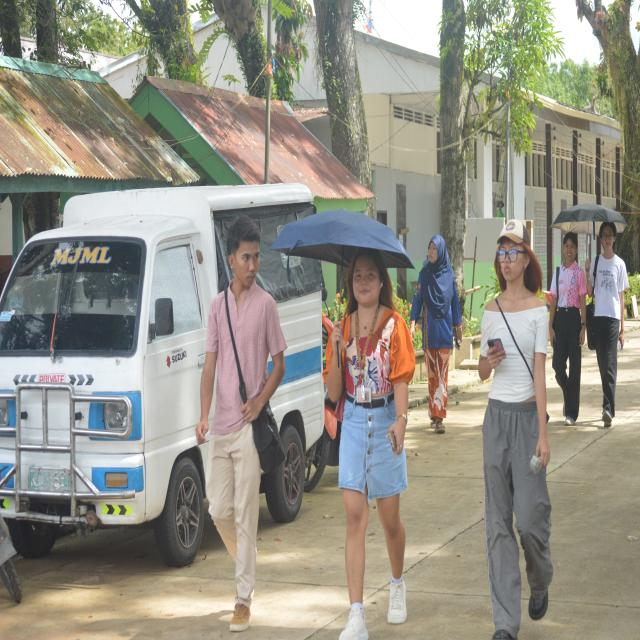person: (196, 217, 286, 631), (324, 249, 415, 639), (479, 220, 553, 639), (410, 235, 462, 433), (586, 223, 628, 426), (549, 232, 587, 425)
